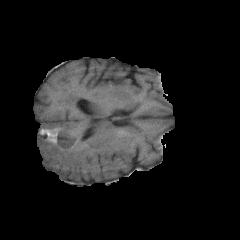glioma: (38, 96, 130, 177)
